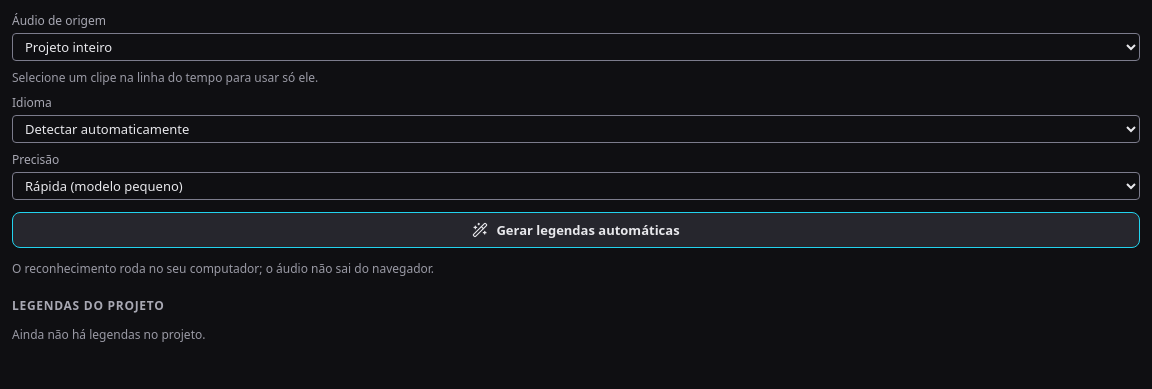
Test case: CaptionsTab › avisa quando não há fala no áudio
Click the button "Gerar legendas automáticas".
click(576, 230)  # box [12, 212, 1140, 248]
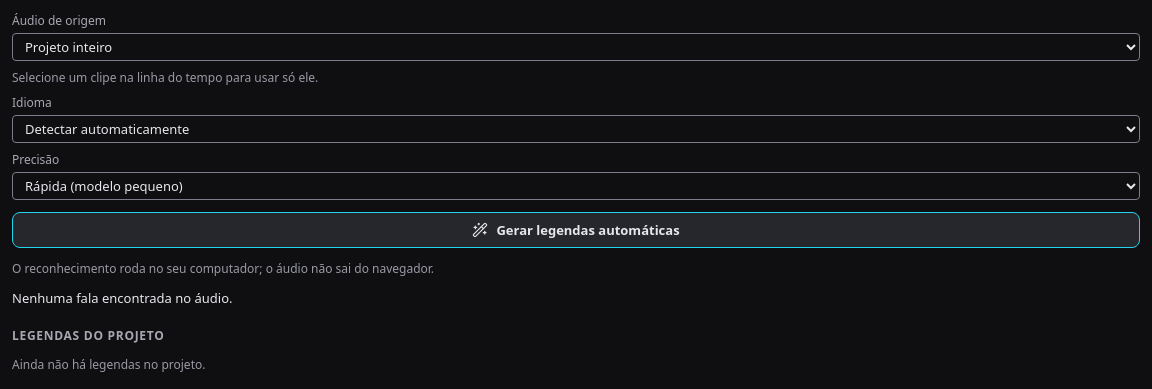
Expected: the text "Nenhuma fala encontrada no áudio." is shown, [12, 289, 232, 307]
